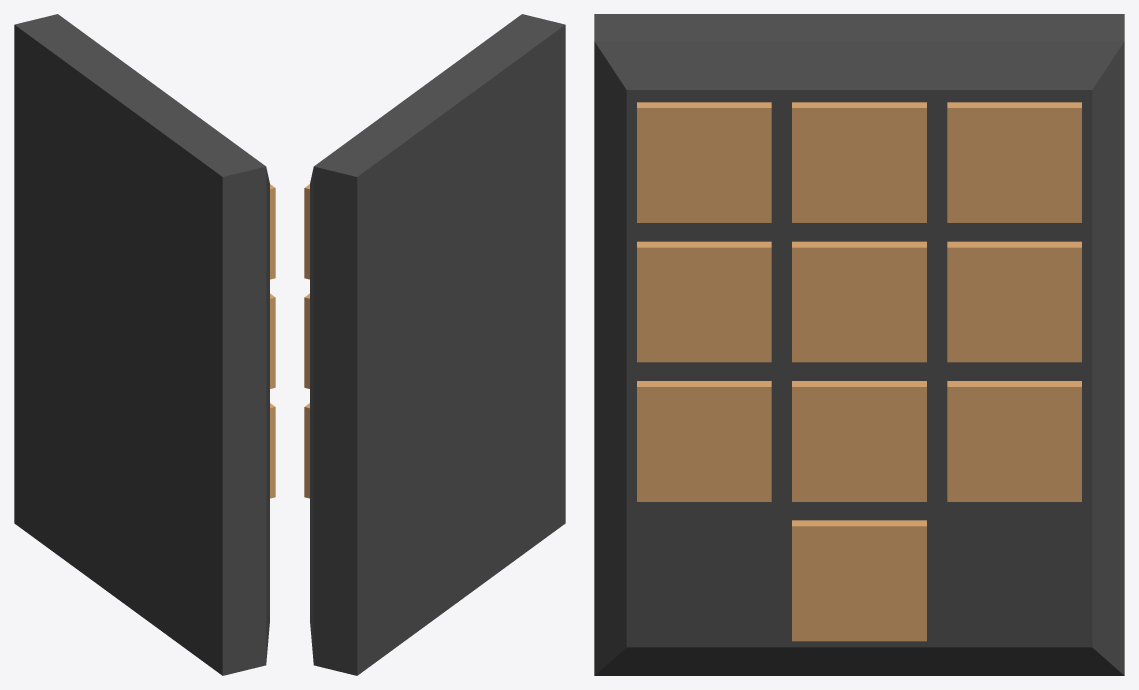
File: code.fbx
3 renders of one model, left to right at view 1: azimuth 30°, elevation 25°; view 2: azimuth 150°, elevation 25°; view 3: azimuth 270°, elevation 25°, orthographic. The views are drawn at different scales.
Visible parts, largest first — view 1: Cube; view 2: Cube; view 3: Cube.
Boxes of the visible parts, <box> form: Cube: <box>14,14,275,675</box>; Cube: <box>304,14,565,675</box>; Cube: <box>594,14,1124,675</box>.
Size of the model in its own units: 496 by 72.29 by 375.
